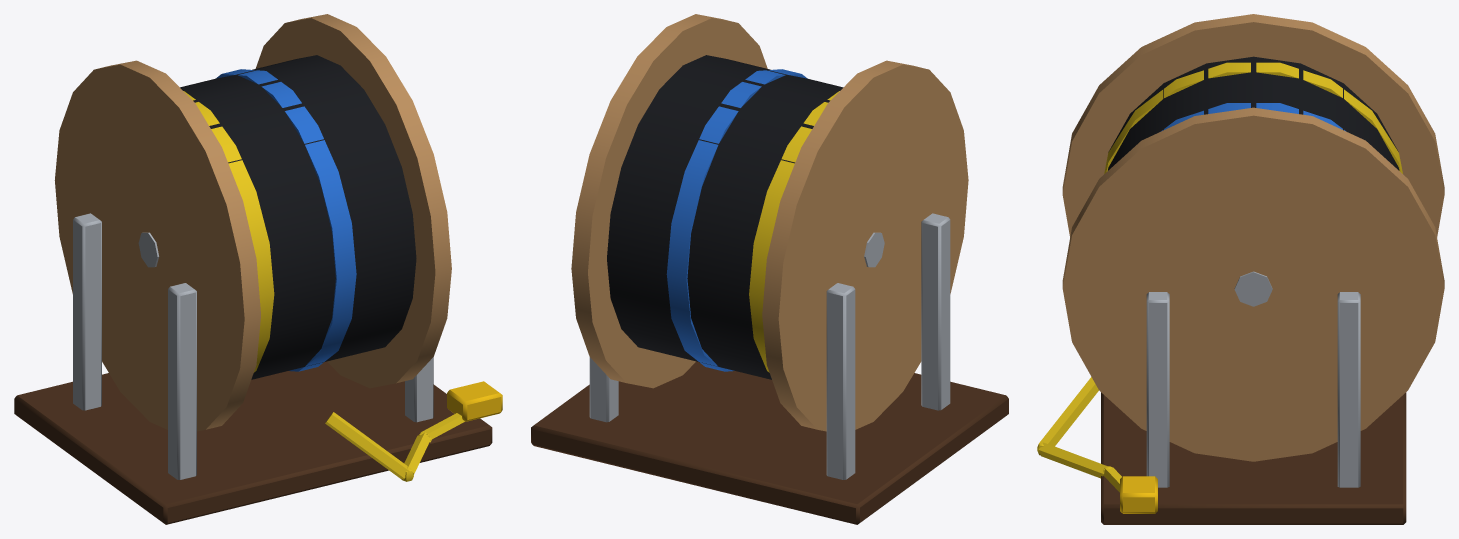
File: router_cable_spool.glb
3 views of the same model, side by side, from view 1: azimuth 30°, elevation 25°; view 2: azimuth 150°, elevation 25°; view 3: azimuth 270°, elevation 25° (orthographic).
Visible parts, largest first — view 1: router_cable_spool; view 2: router_cable_spool; view 3: router_cable_spool.
Boxes of the visible parts, x1,y1,x2,y2 form: router_cable_spool: (14,14,502,524); router_cable_spool: (531,14,1008,524); router_cable_spool: (1037,14,1444,524).
Bounding box in the file's own units: 1.06 × 1.1 × 1.07.
